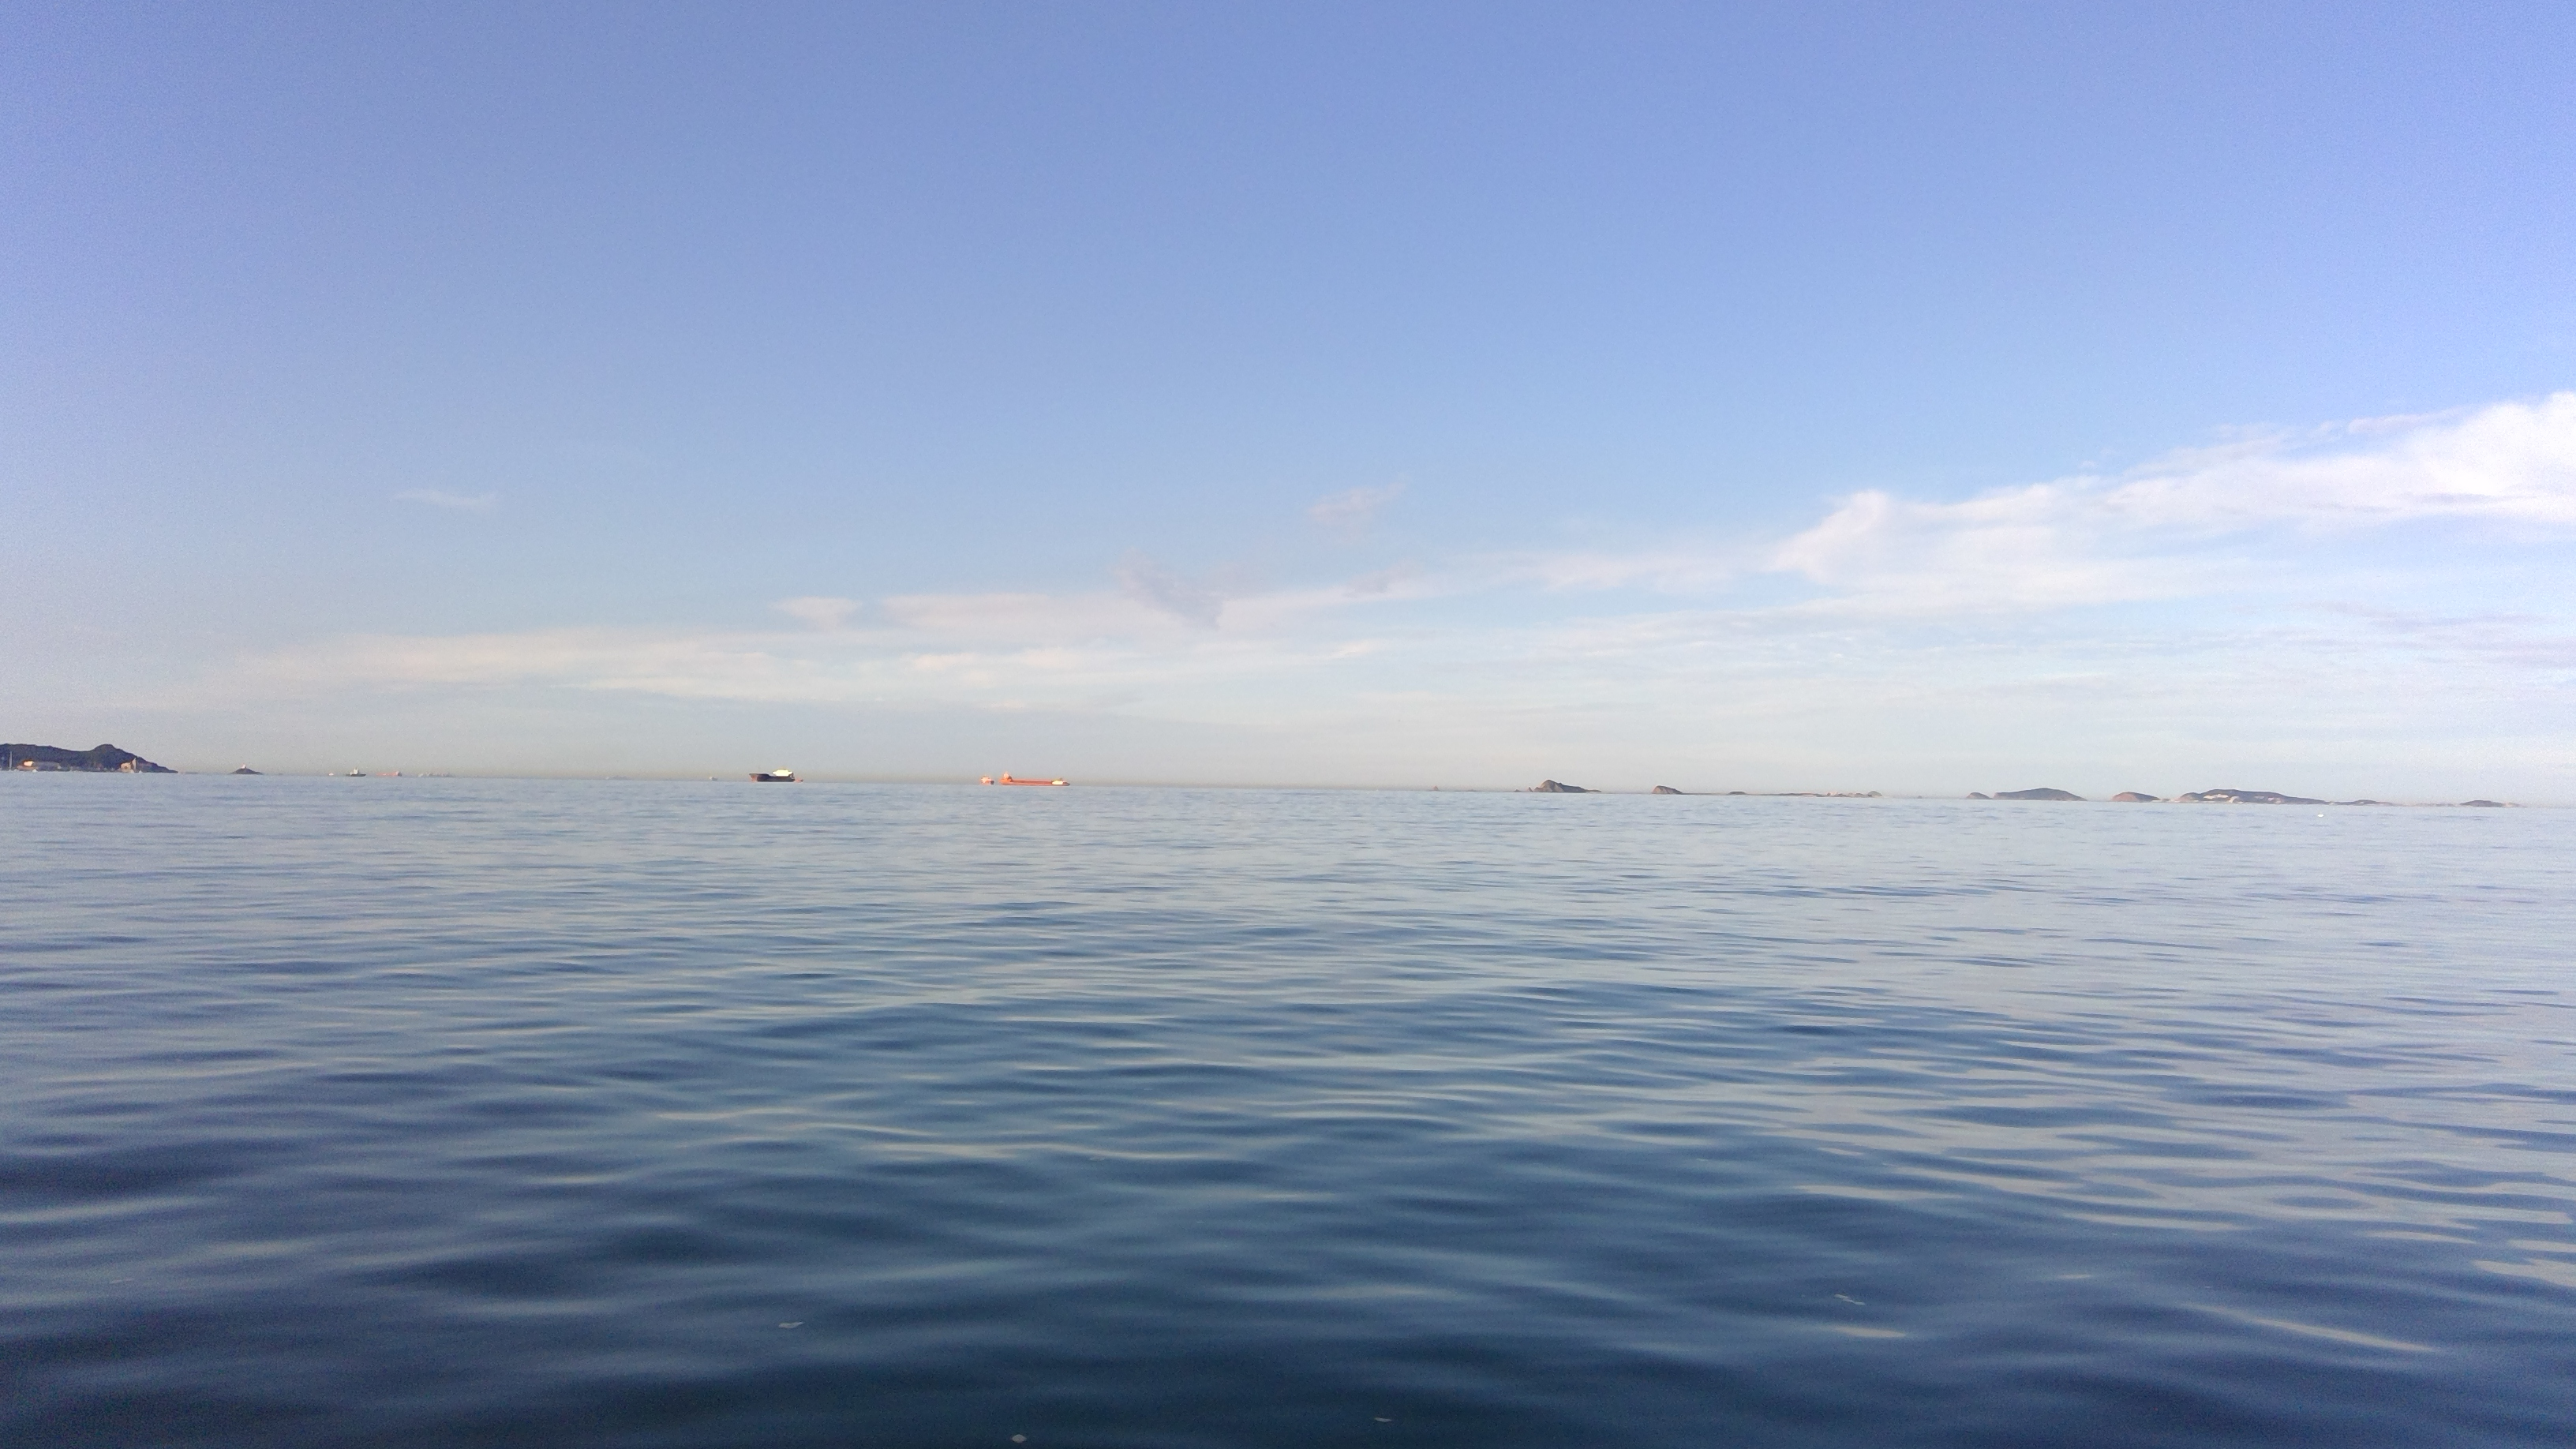boat: (745, 763, 805, 787)
platform: (977, 755, 1077, 800)
rock: (2112, 782, 2360, 816), (0, 741, 175, 777), (1537, 759, 1598, 798), (1951, 784, 2079, 800), (1654, 780, 1700, 809)
